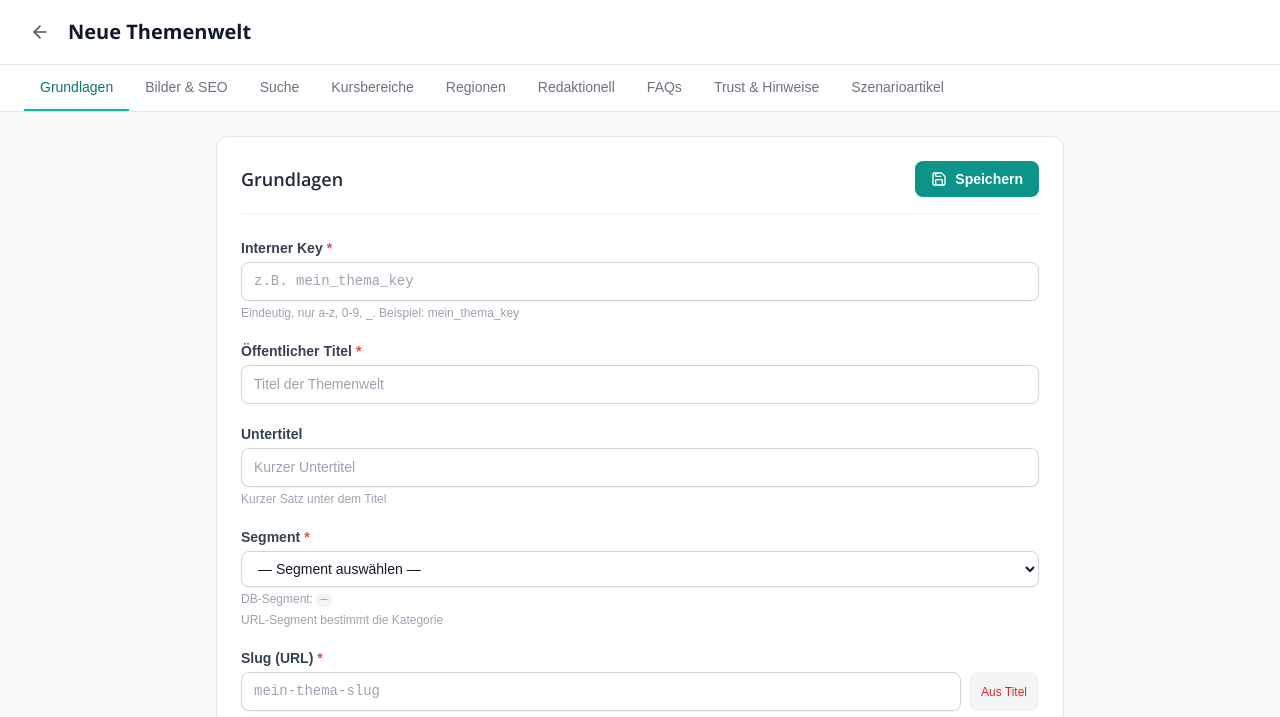
Scenario: Segment-Mapping: Gültige Werte via Component › privat-hobby → privat wird angezeigt
Select "Privat & Hobby" in the dropdown: coordinates (640, 569) [241,551,1039,587]
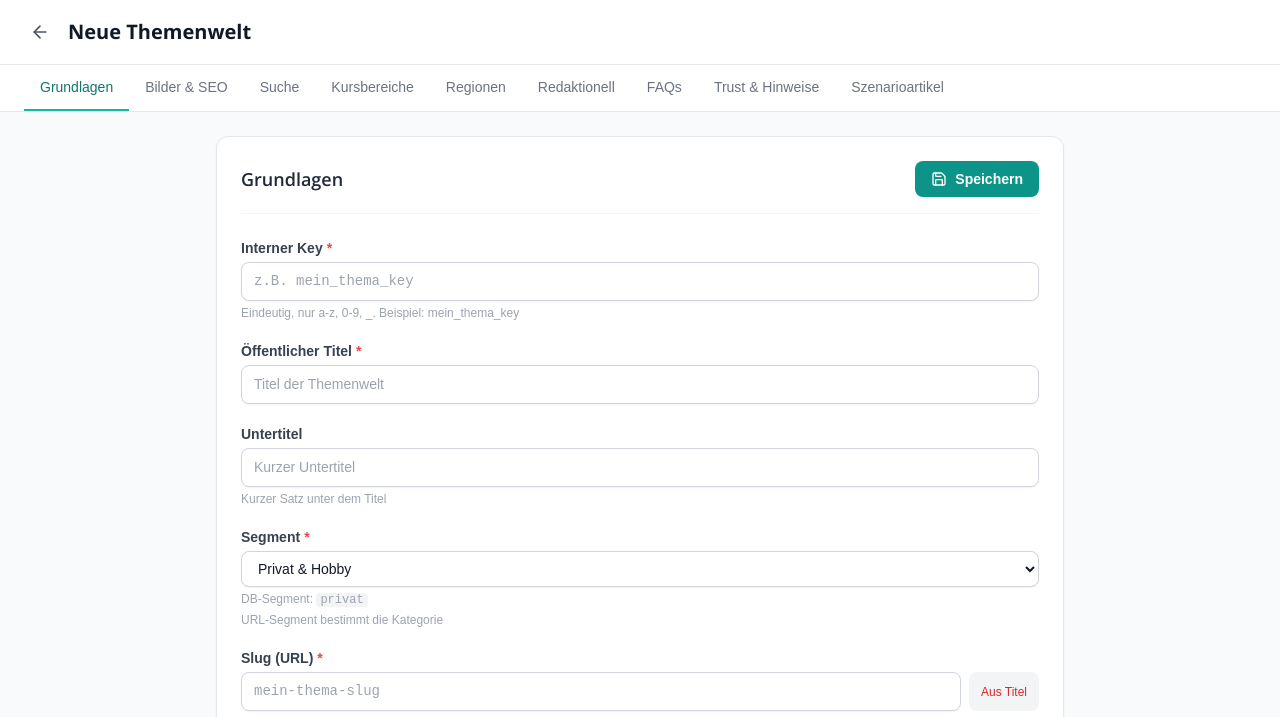
Expected: the text "DB-Segment: privat" is shown, [241,592,368,607]
Expected: the text "DB-Segment:" no longer shows "—"
